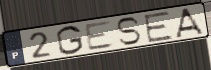2: (28, 31, 54, 60)
A: (174, 7, 206, 39)
E: (142, 9, 175, 44), (83, 19, 116, 53)
G: (55, 24, 85, 56)
S: (115, 16, 142, 46)
